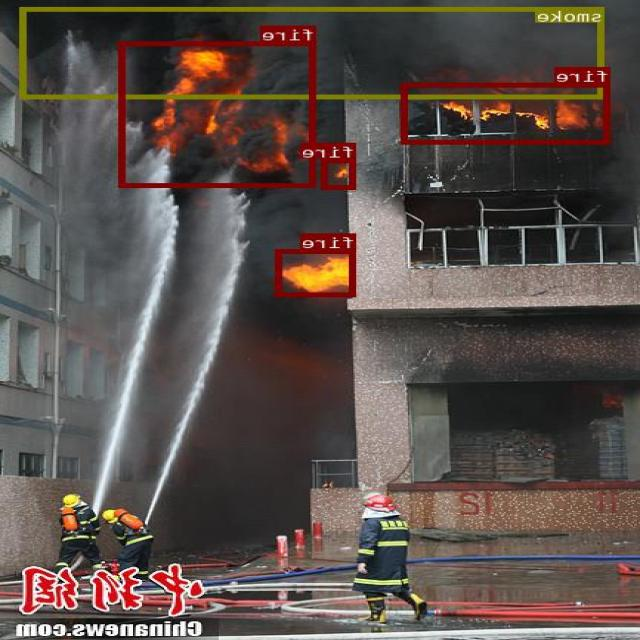fire: (121, 41, 317, 187), (402, 82, 612, 144), (277, 249, 357, 296), (324, 158, 357, 188)
smoke: (22, 6, 606, 98)
